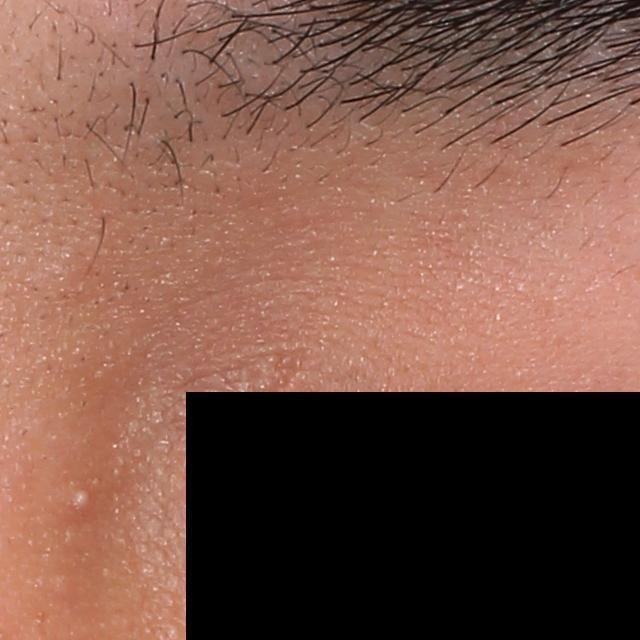pustule: (69, 487, 91, 512)
